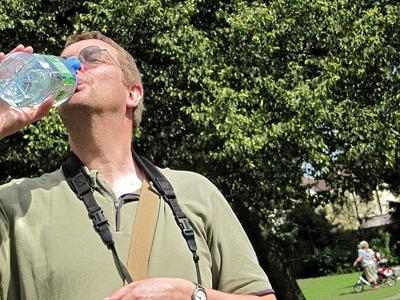person: (1, 31, 279, 300)
